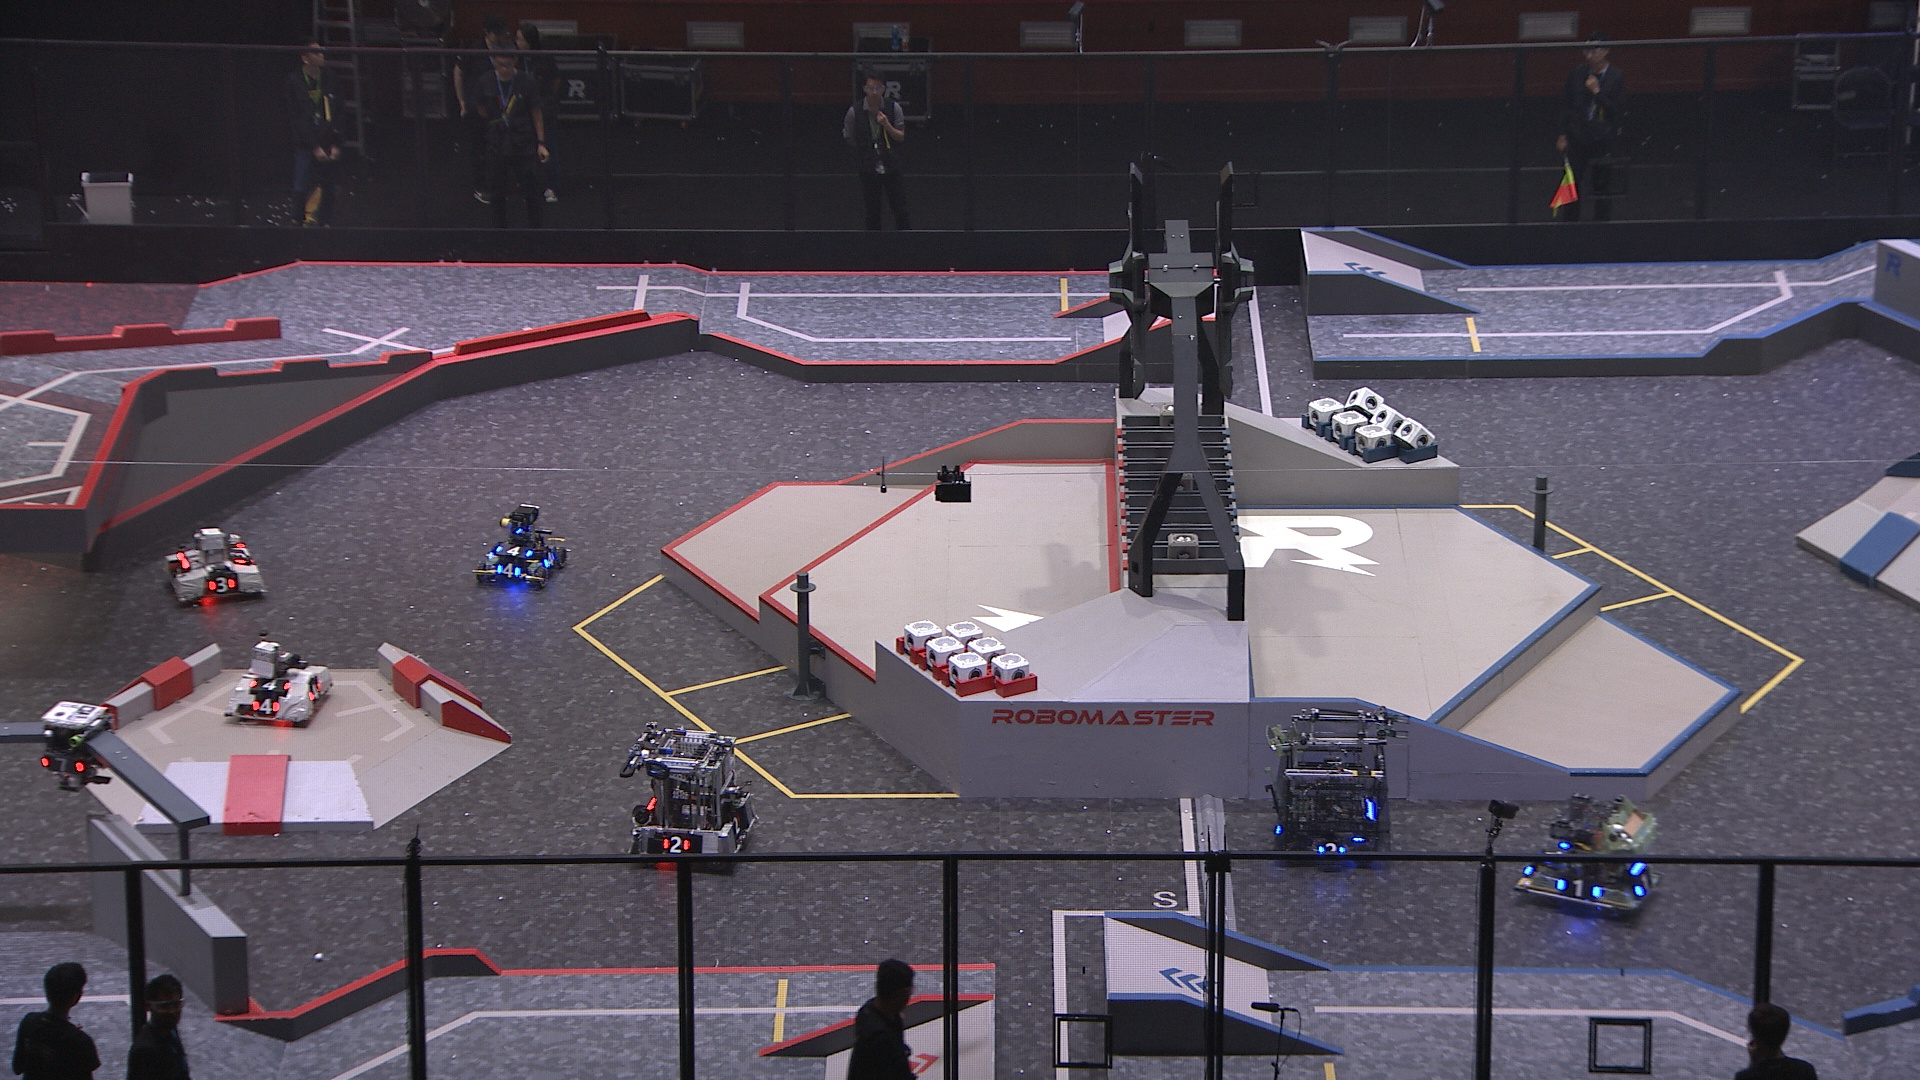armor: (38, 750, 92, 778), (1555, 877, 1604, 905), (1629, 869, 1658, 901), (495, 541, 533, 560), (659, 833, 692, 856), (204, 572, 237, 595), (225, 541, 253, 567), (249, 695, 281, 717), (245, 675, 291, 690), (1316, 839, 1346, 860), (728, 811, 752, 837), (495, 560, 520, 583), (305, 675, 324, 703), (539, 551, 558, 571)
car: (621, 717, 764, 868), (1263, 707, 1394, 869), (1520, 783, 1664, 918), (224, 626, 334, 727), (476, 498, 572, 593), (166, 522, 272, 604)
watcher: (32, 698, 119, 796)
